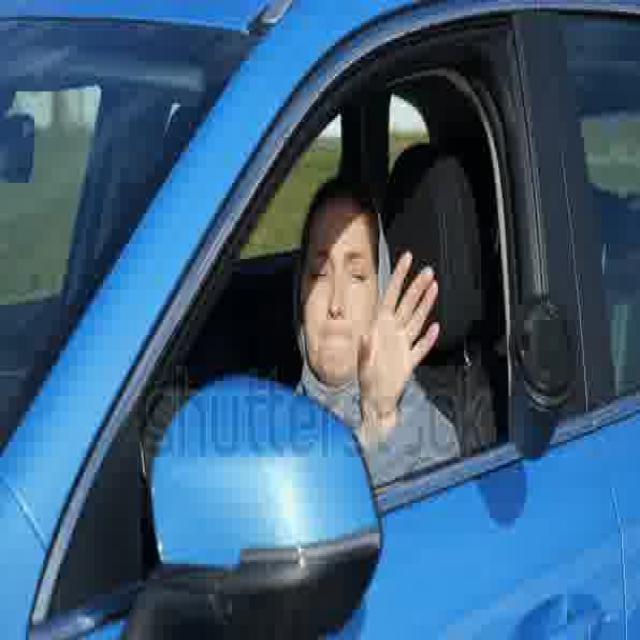human: (277, 160, 465, 494)
